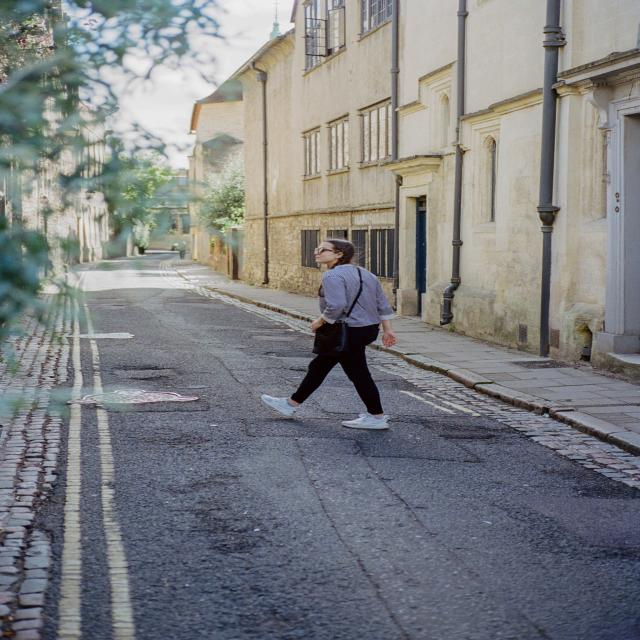adult: (262, 239, 398, 428)
